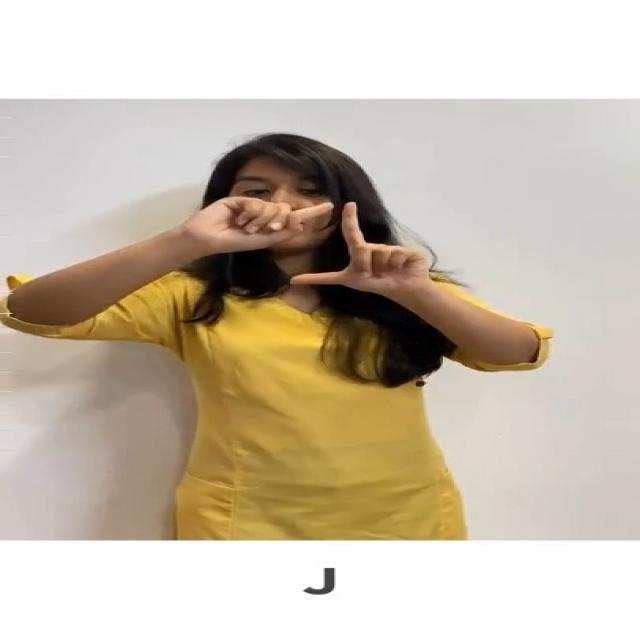J: (172, 187, 458, 311)
